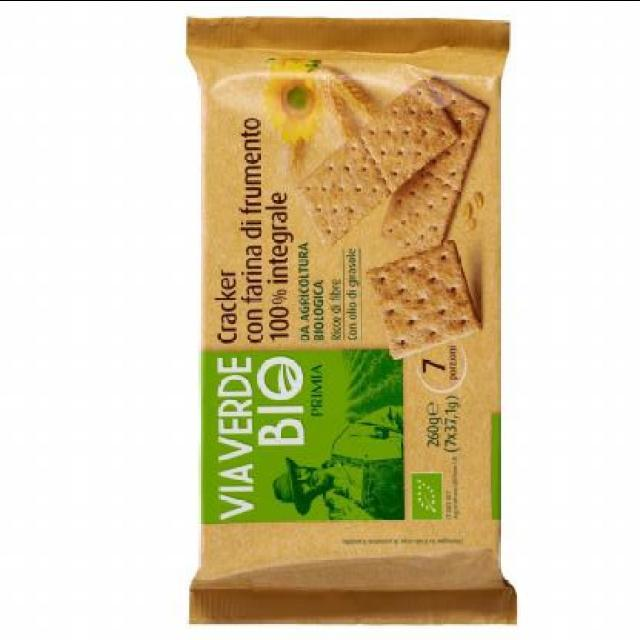Cracker: (182, 1, 522, 634)
